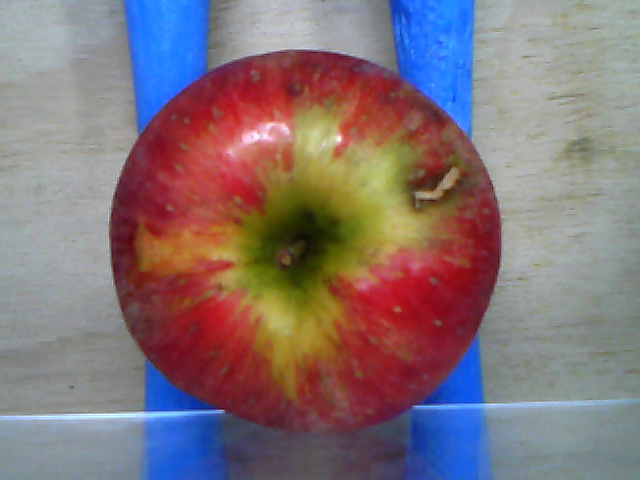stem: (278, 232, 312, 266)
